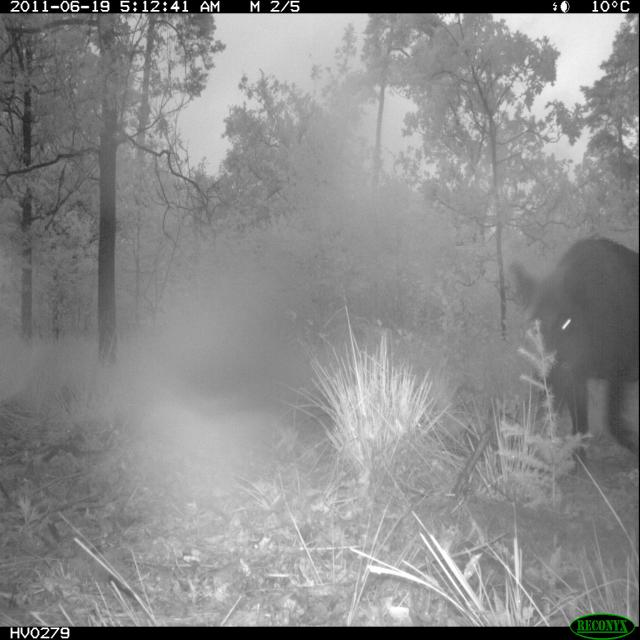boar: (506, 191, 640, 468)
